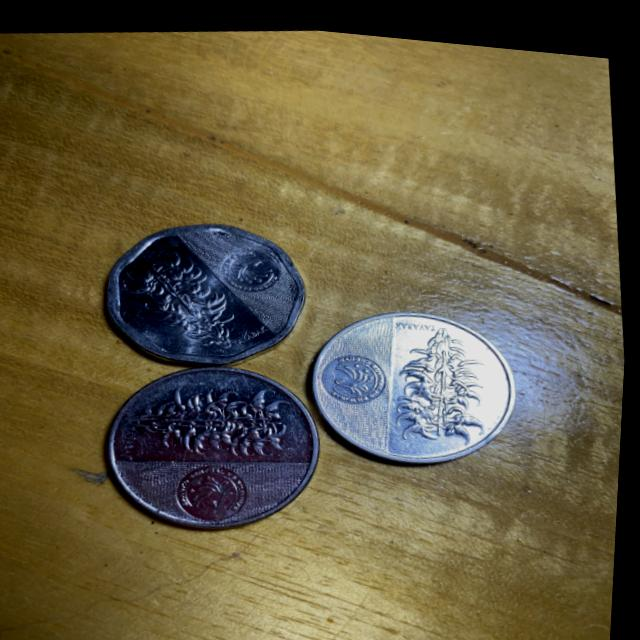5_New_Back: (124, 349, 317, 460)
